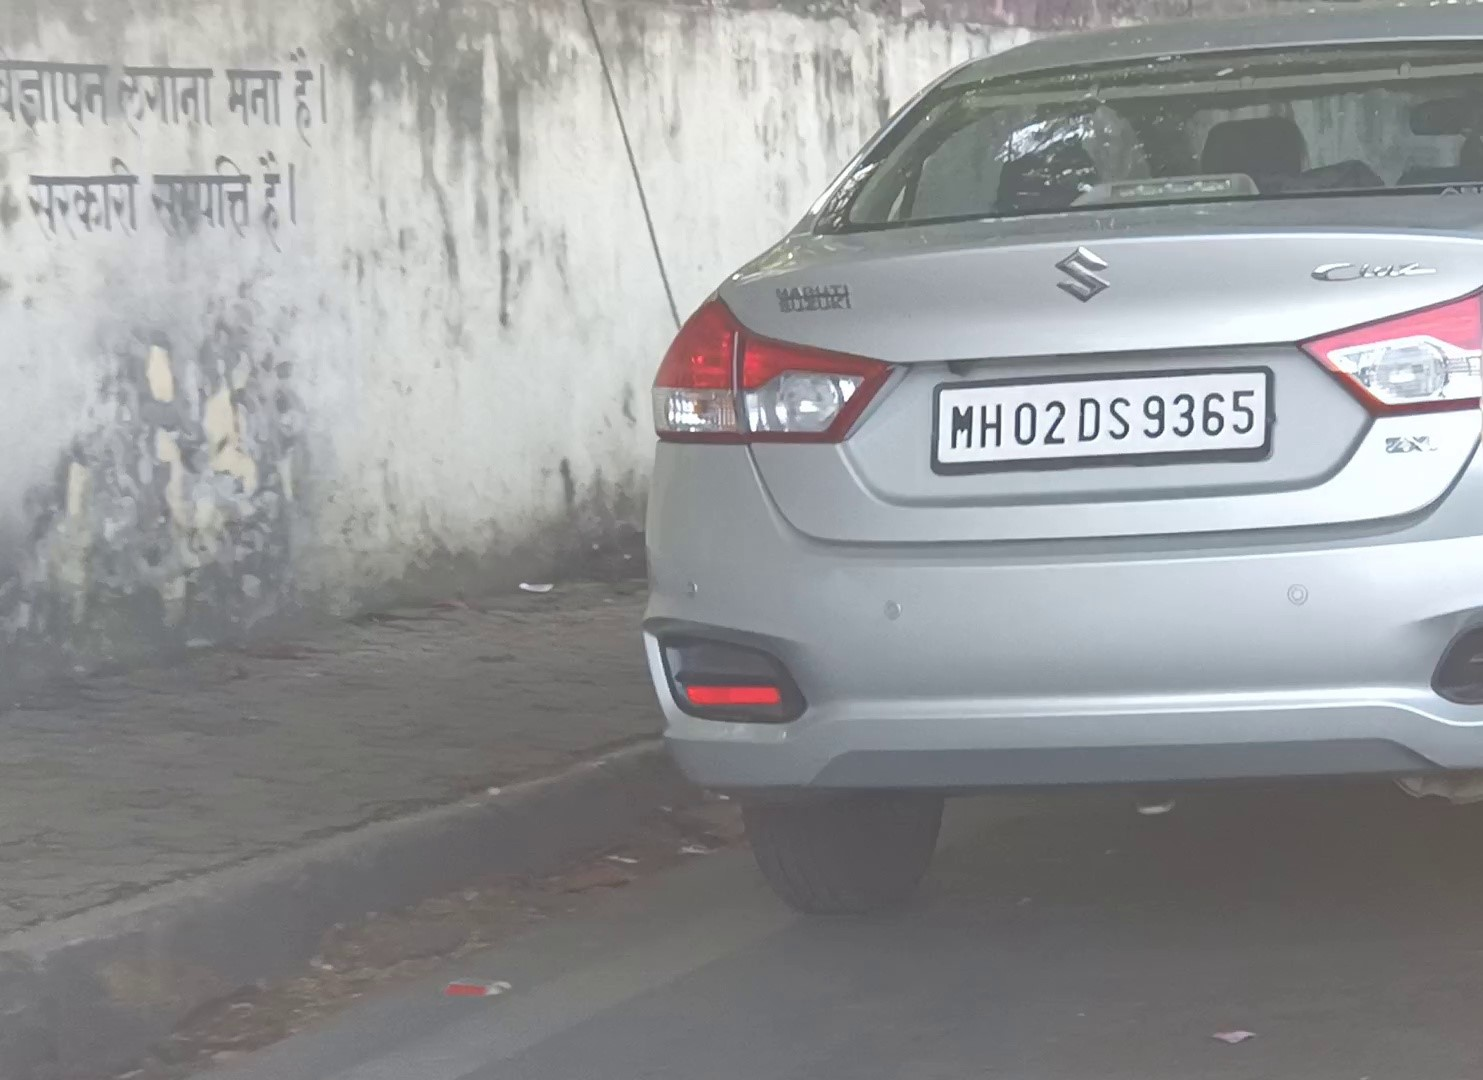MH02DS9365: (935, 372, 1269, 463)
